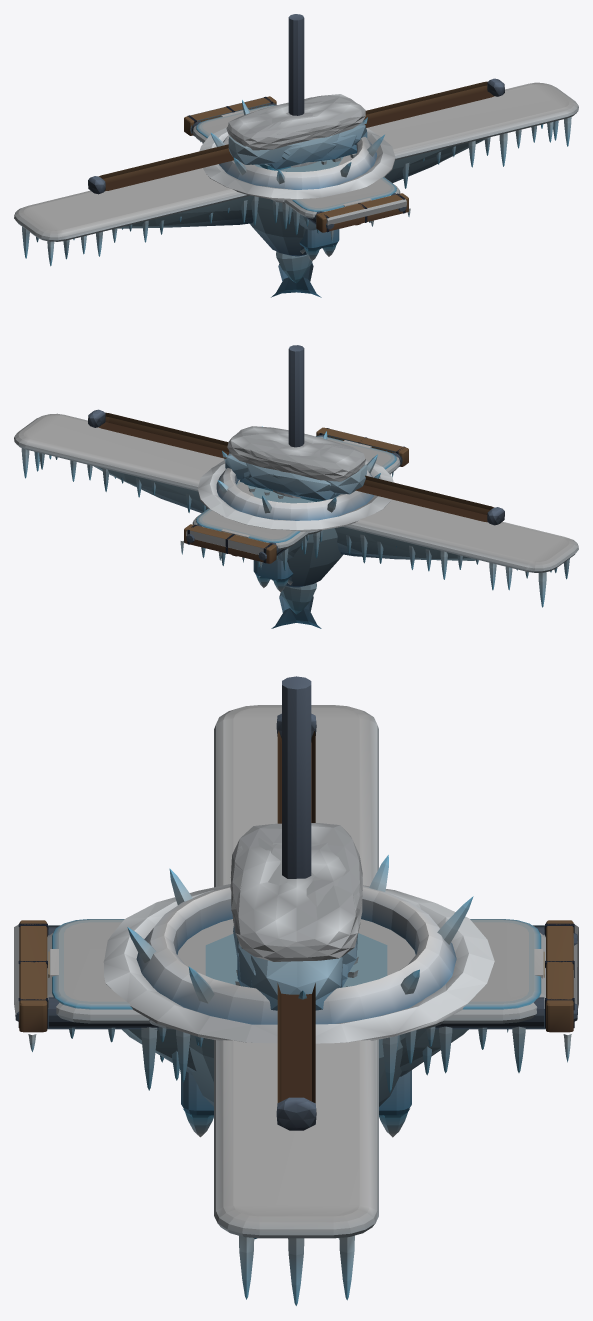
The model's file is glacier-2-BmvuAuzT.glb.
The picture shows the model from 3 angles, top to bottom: view 1: azimuth 30°, elevation 25°; view 2: azimuth 150°, elevation 25°; view 3: azimuth 270°, elevation 25°; orthographic projection. The views are drawn at different scales.
Parts seen in each view (by area): view 1: block_40x2x5#0, geyserVent_8#0, spout_7x2#0, mount_14.9#0, belt_6.5x1.5x18x1#0, press_2.5x6x7.5#0, spout_5x2#0, disc_10x1.5#0, block_7x2x16#0, block_7x2x16_ice#0, blade_3x9x1#0, support_1_round#0 (+1 smaller); view 2: block_40x2x5#0, spout_7x2#0, geyserVent_8#0, mount_14.9#0, belt_6.5x1.5x18x1#0, press_2.5x6x7.5#0, block_7x2x16#0, disc_10x1.5#0, spout_5x2#0, block_7x2x16_ice#0, blade_3x9x1#0, support_1_round#0 (+1 smaller); view 3: block_40x2x5#0, geyserVent_8#0, spout_7x2#0, block_7x2x16#0, belt_6.5x1.5x18x1#0, press_2.5x6x7.5#0, mount_14.9#0, block_7x2x16_ice#0, block_8x2x10#0, spout_5x2#0, hover_7x1.5x7_floe#0, disc_10x1.5#0.
Boxes of the visible parts, left/top/right/bottom form: block_40x2x5#0: left=14, top=82, right=578, bottom=266; geyserVent_8#0: left=199, top=100, right=395, bottom=200; spout_7x2#0: left=226, top=94, right=367, bottom=170; mount_14.9#0: left=88, top=78, right=504, bottom=194; belt_6.5x1.5x18x1#0: left=184, top=96, right=410, bottom=242; press_2.5x6x7.5#0: left=288, top=14, right=339, bottom=260; spout_5x2#0: left=256, top=97, right=341, bottom=171; disc_10x1.5#0: left=250, top=196, right=306, bottom=256; block_7x2x16#0: left=192, top=107, right=400, bottom=234; block_7x2x16_ice#0: left=196, top=105, right=396, bottom=229; blade_3x9x1#0: left=276, top=251, right=312, bottom=283; support_1_round#0: left=271, top=261, right=321, bottom=297; block_40x2x5#0: left=14, top=413, right=578, bottom=607; spout_7x2#0: left=225, top=426, right=367, bottom=501; geyserVent_8#0: left=198, top=426, right=393, bottom=531; mount_14.9#0: left=88, top=409, right=504, bottom=525; belt_6.5x1.5x18x1#0: left=180, top=427, right=408, bottom=569; press_2.5x6x7.5#0: left=253, top=345, right=304, bottom=592; block_7x2x16#0: left=192, top=439, right=400, bottom=570; disc_10x1.5#0: left=238, top=480, right=350, bottom=587; spout_5x2#0: left=240, top=434, right=343, bottom=500; block_7x2x16_ice#0: left=196, top=436, right=396, bottom=560; blade_3x9x1#0: left=281, top=582, right=316, bottom=614; support_1_round#0: left=271, top=592, right=321, bottom=628; block_40x2x5#0: left=214, top=705, right=378, bottom=1305; geyserVent_8#0: left=103, top=855, right=494, bottom=1043; spout_7x2#0: left=230, top=823, right=362, bottom=1010; block_7x2x16#0: left=47, top=922, right=545, bottom=1090; belt_6.5x1.5x18x1#0: left=14, top=920, right=578, bottom=1062; press_2.5x6x7.5#0: left=181, top=676, right=411, bottom=1137; mount_14.9#0: left=276, top=713, right=316, bottom=1130; block_7x2x16_ice#0: left=52, top=919, right=541, bottom=1076; block_8x2x10#0: left=149, top=919, right=443, bottom=1092; spout_5x2#0: left=231, top=837, right=362, bottom=987; hover_7x1.5x7_floe#0: left=205, top=933, right=387, bottom=987; disc_10x1.5#0: left=160, top=1035, right=402, bottom=1106.
Size of the model in its own units: 40.36 by 20.54 by 18.35.
